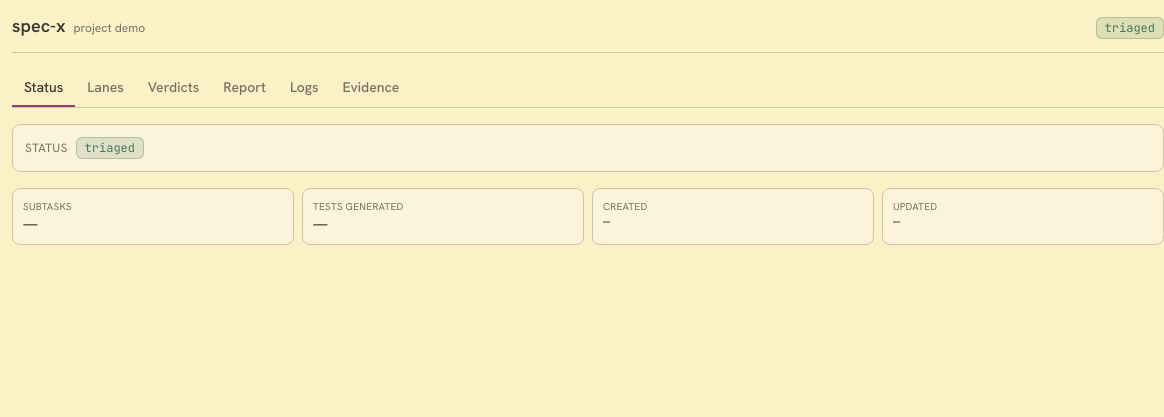
Test: <PFactoryTaskDetail> evidence tab (Task 16) › shows evidence-empty when verdicts have no evidence_urls
The width and height of the screenshot is (1164, 417).
Click the tab with test id "tab-verdicts" at (174, 88), box [136,69,211,107]
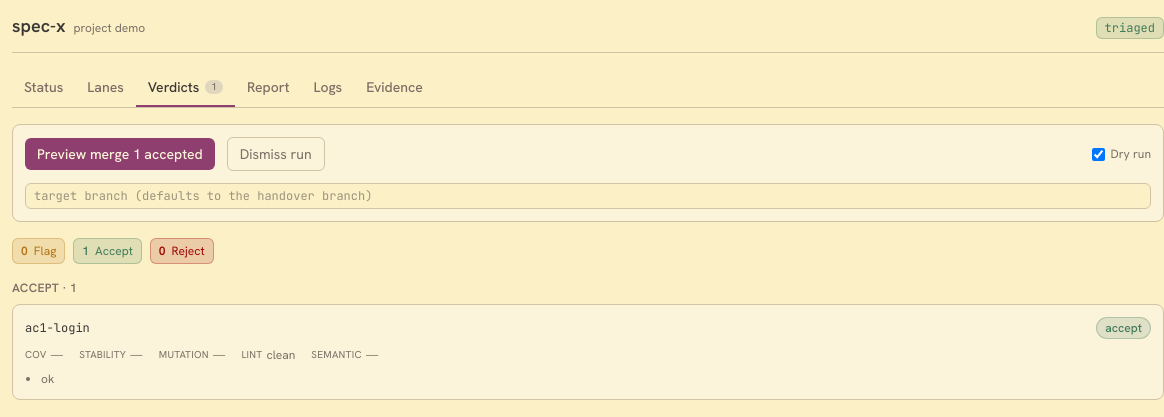
Check: the element with test id "verdict-table" is shown, box [12,238,1163,400]
Click the tab with test id "tab-evidence" at (395, 88), box [354,69,435,107]
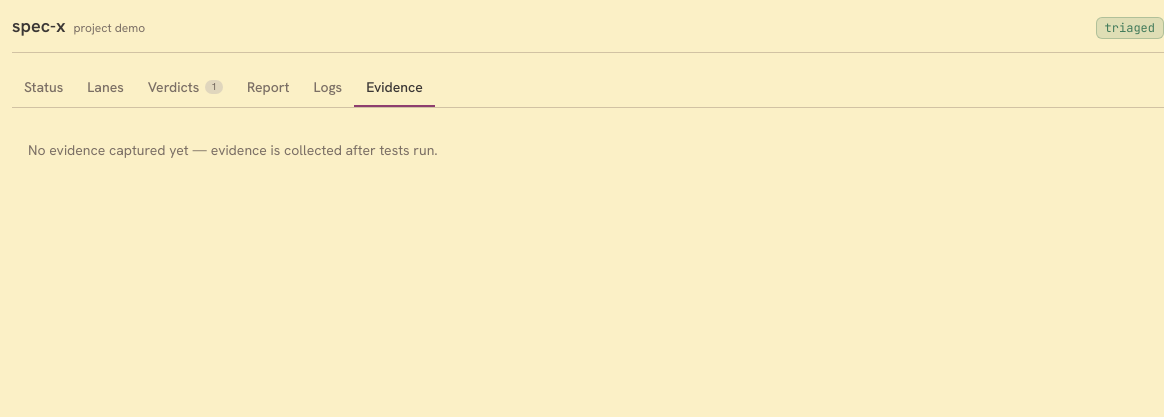
Check: the text with test id "evidence-empty" is shown, box [28,141,438,159]
